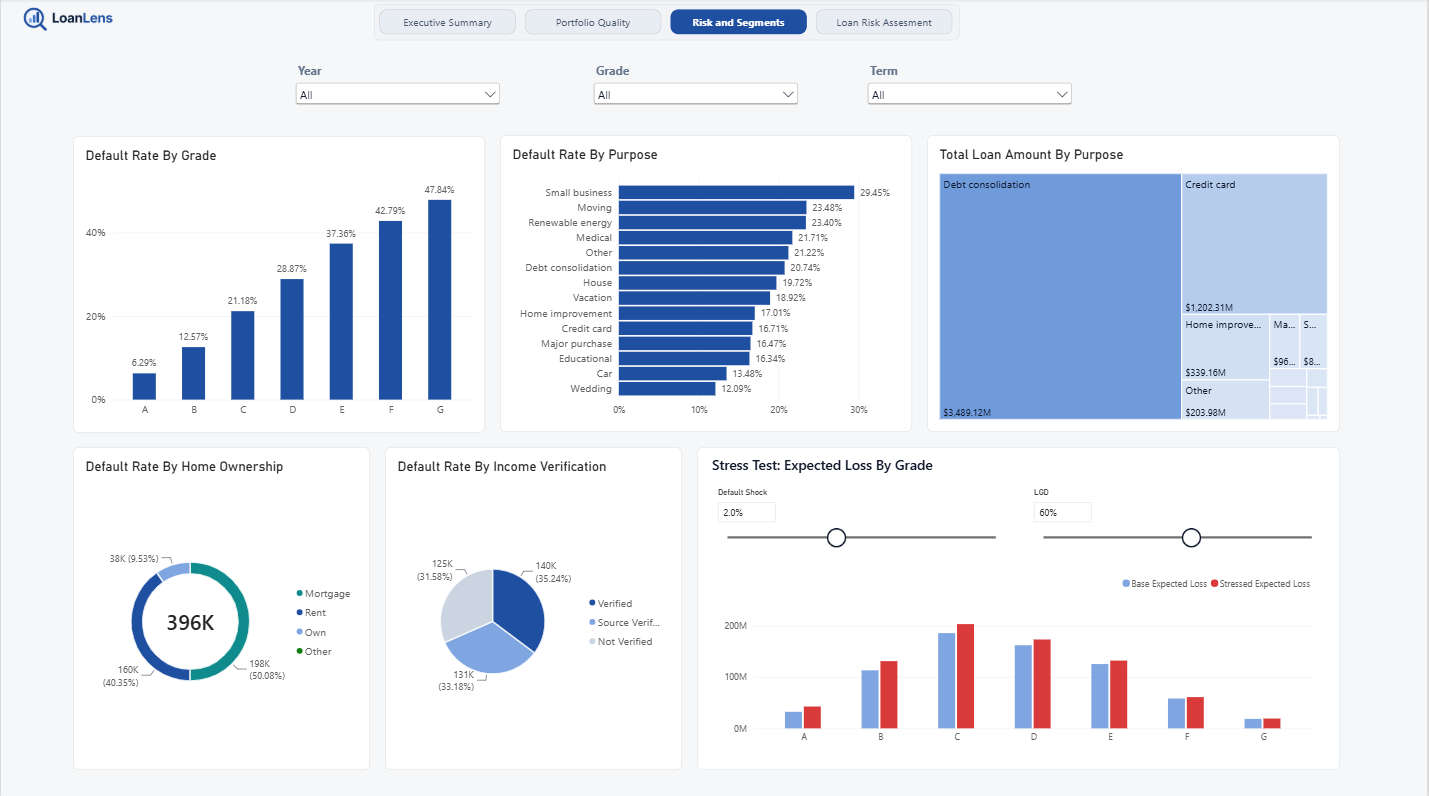

The dashboard page shown, as its layout file describes it:
{"tool":"powerbi","page":{"name":"Risk and Segments","canvas":[1920,1080],"ordinal":2},"visuals":[{"type":"shape","box":[937,605,866,435],"z":0},{"type":"pageNavigator","title":"Execut","box":[501.7,8.3,788.6,48.6],"z":1000},{"type":"image","box":[16,8,152,40],"z":2000},{"type":"slicer","fields":{"Values":["dim_date.year"]},"box":[384.3,78.6,301.4,82.9],"z":3000},{"type":"slicer","fields":{"Values":["dim_grade.credit_grade"]},"box":[785.7,78.6,301.4,85.7],"z":4000},{"type":"slicer","fields":{"Values":["dim_term.term_label"]},"box":[1154.3,78.6,301.4,107.1],"z":5000},{"type":"clusteredColumnChart","title":"Default Rate By Grade","fields":{"Category":["dim_grade.credit_grade"],"Y":["_Measures.Default Rate"]},"box":[97,185.8,555,400],"z":6000},{"type":"clusteredBarChart","title":"Default Rate By Purpose","fields":{"Category":["dim_purpose.purpose_name"],"Y":["_Measures.Default Rate"]},"box":[672,185,555,400],"z":7000},{"type":"treemap","title":"Total Loan Amount By Purpose","fields":{"Group":["dim_purpose.purpose_name"],"Values":["_Measures.Total Loan Amount"]},"box":[1247,184.5,556.2,400],"z":8000},{"type":"donutChart","title":"Default Rate By Home Ownership","fields":{"Category":["dim_home_ownership.home_ownership_name"],"Y":["_Measures.Loan Count"]},"box":[97,605,400,435],"z":9000},{"type":"pieChart","title":"Default Rate By Income Verification","fields":{"Category":["dim_verification.verification_name"],"Y":["_Measures.Loan Count"]},"box":[517,605,400,435],"z":10000},{"type":"slicer","fields":{"Values":["Default Shock.Default Shock"]},"box":[957,660,400,84],"z":11000},{"type":"textbox","box":[957,615,500,32],"z":13000},{"type":"clusteredColumnChart","fields":{"Category":["dim_grade.credit_grade"],"Y":["_Measures.Base Expected Loss","_Measures.Stressed Expected Loss"]},"box":[957,760,826,265],"z":14000},{"type":"slicer","fields":{"Values":["LGD.LGD"]},"box":[1383,660,400,84],"z":14001}]}

Visuals, with their boxes in screenshot pixels (x1, y1, x2, y2), scaled from the page's 1920x1080 canvas onto the 1429x796 screenshot:
shape: x1=697, y1=446, x2=1342, y2=767
"Execut" pageNavigator: x1=373, y1=6, x2=960, y2=42
image: x1=12, y1=6, x2=125, y2=35
slicer - dim_date.year: x1=286, y1=58, x2=510, y2=119
slicer - dim_grade.credit_grade: x1=585, y1=58, x2=809, y2=121
slicer - dim_term.term_label: x1=859, y1=58, x2=1083, y2=137
"Default Rate By Grade" clusteredColumnChart: x1=72, y1=137, x2=485, y2=432
"Default Rate By Purpose" clusteredBarChart: x1=500, y1=136, x2=913, y2=431
"Total Loan Amount By Purpose" treemap: x1=928, y1=136, x2=1342, y2=431
"Default Rate By Home Ownership" donutChart: x1=72, y1=446, x2=370, y2=767
"Default Rate By Income Verification" pieChart: x1=385, y1=446, x2=682, y2=767
slicer - Default Shock.Default Shock: x1=712, y1=486, x2=1010, y2=548
textbox: x1=712, y1=453, x2=1084, y2=477
clusteredColumnChart - dim_grade.credit_grade x _Measures.Base Expected Loss: x1=712, y1=560, x2=1327, y2=755
slicer - LGD.LGD: x1=1029, y1=486, x2=1327, y2=548
